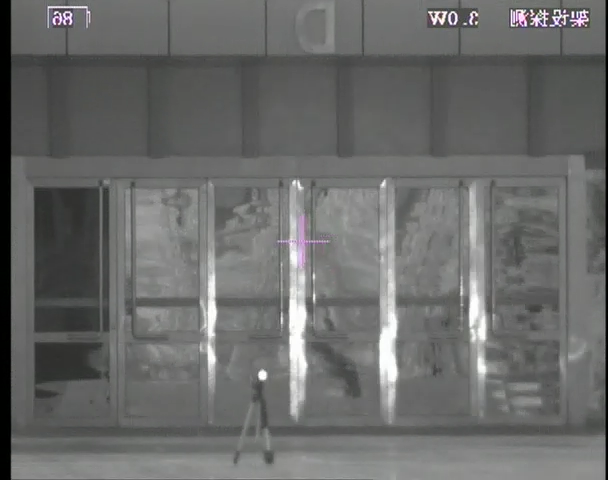my: (257, 369, 269, 381)
